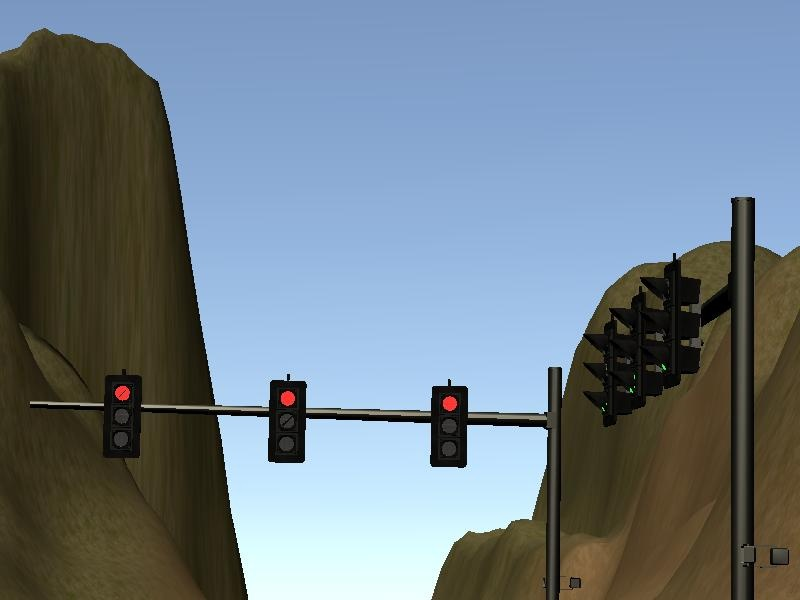red: (261, 370, 311, 467), (425, 380, 471, 473), (101, 369, 145, 464)
